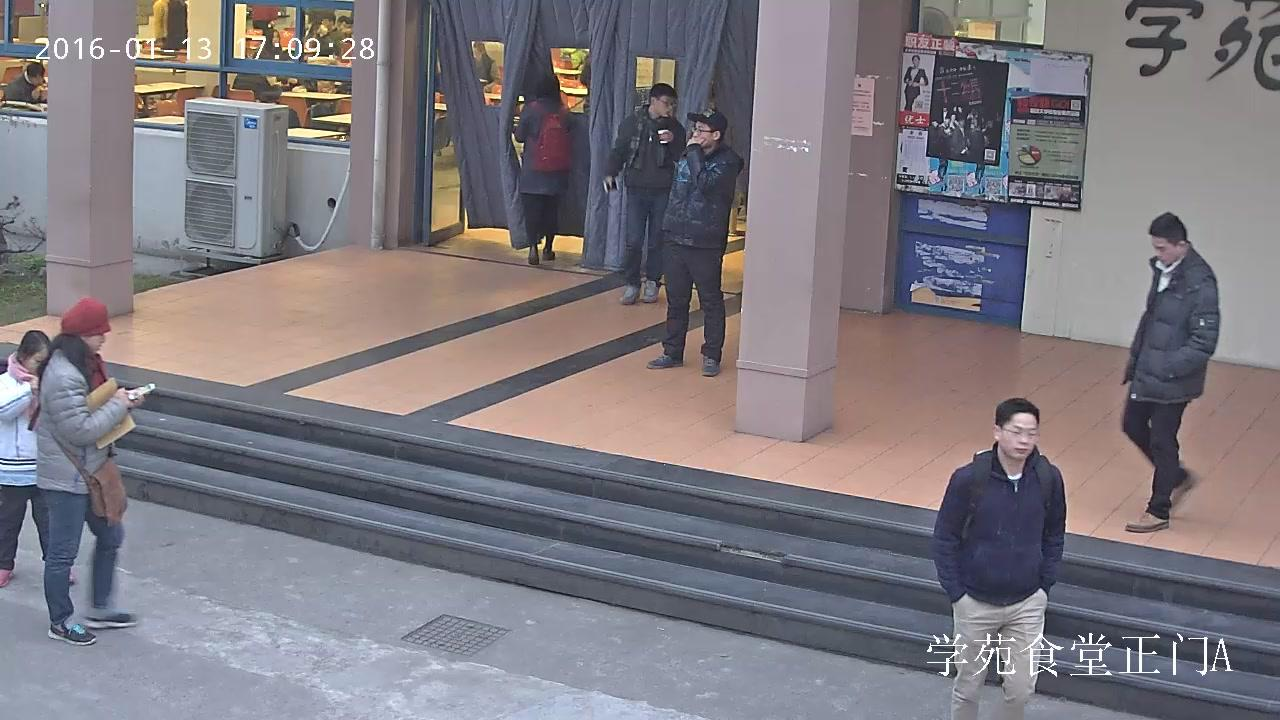person: (27, 296, 156, 645), (931, 398, 1065, 720), (1118, 211, 1220, 533), (644, 104, 746, 376), (0, 330, 76, 586), (601, 83, 685, 304), (513, 74, 569, 265), (1, 62, 44, 109), (470, 40, 496, 103), (903, 54, 928, 111), (253, 29, 289, 61)
